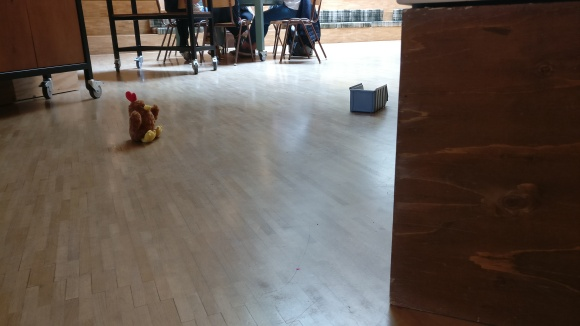chicken: (122, 89, 164, 145)
tray: (346, 80, 389, 113)
